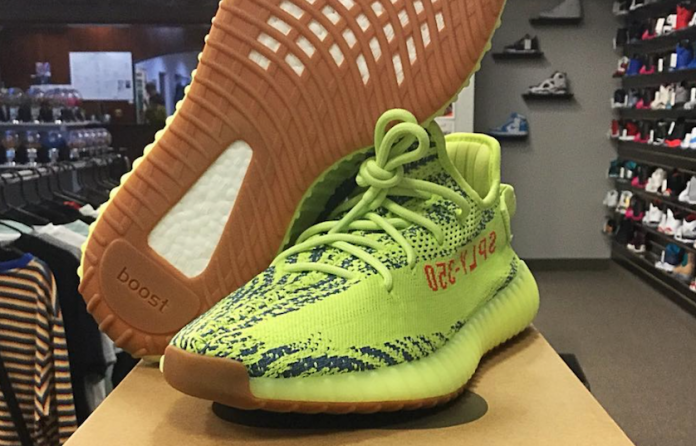Yeezy Semi-Frozen: (151, 109, 545, 422)
